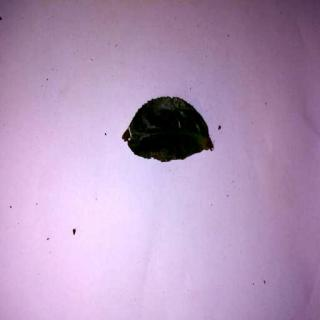Anthracnose: (125, 94, 217, 164)
